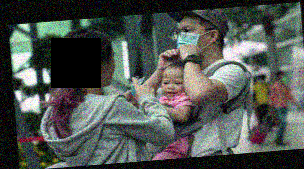with_mask: (175, 20, 209, 58)
without_mask: (160, 76, 186, 100), (102, 51, 117, 87)
